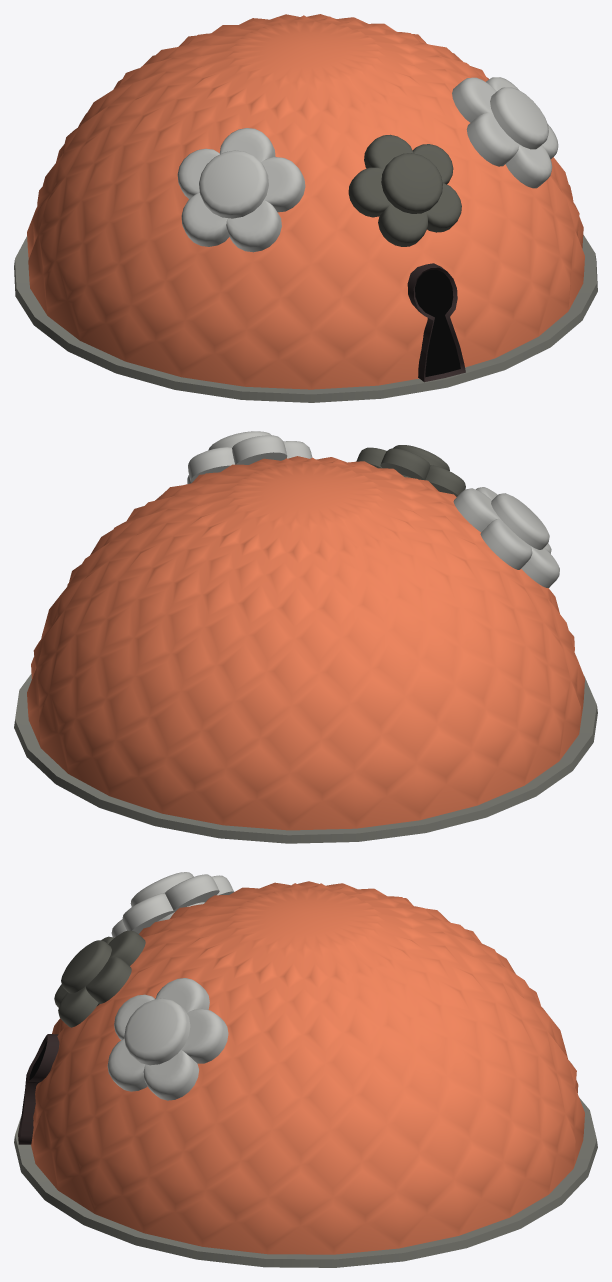
File: round_funny_chest_lid.glb
3 views of the same model, one above another, from view 1: azimuth 30°, elevation 25°; view 2: azimuth 150°, elevation 25°; view 3: azimuth 270°, elevation 25° (orthographic).
Visible parts, largest first — view 1: top_part; view 2: top_part; view 3: top_part.
Boxes of the visible parts, <box> form: top_part: <box>14,14,597,402</box>; top_part: <box>14,431,597,843</box>; top_part: <box>14,872,597,1267</box>.
Size of the model in its own units: 1.19 by 0.5251 by 1.2.
